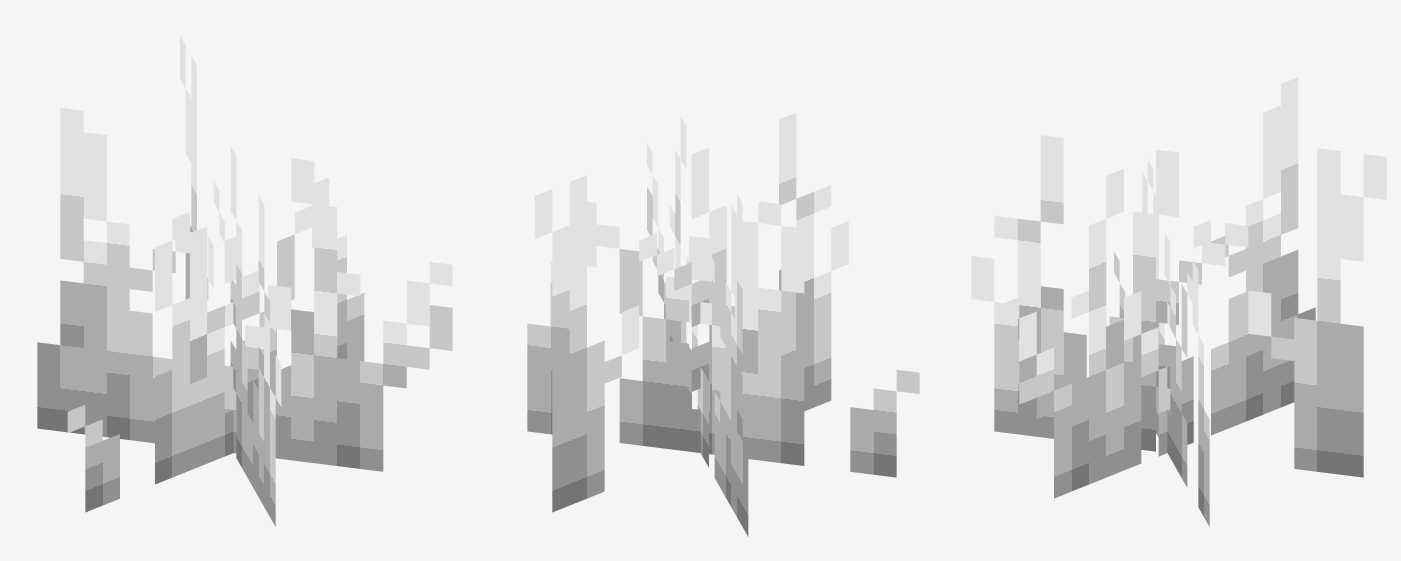
Rendered from grass_b.glb.
3 views of the same model, side by side, from view 1: azimuth 30°, elevation 25°; view 2: azimuth 150°, elevation 25°; view 3: azimuth 270°, elevation 25° (orthographic).
Parts seen in each view (by area): view 1: grass_b; view 2: grass_b; view 3: grass_b.
Part boxes in pixels (box(x1,y1,x2,y2)): grass_b: box(37, 36, 452, 526); grass_b: box(527, 113, 919, 536); grass_b: box(971, 77, 1386, 526).
Size of the model in its own units: 0.5834 by 0.5 by 0.5754.
Materials: 1 (1 with a texture image).
